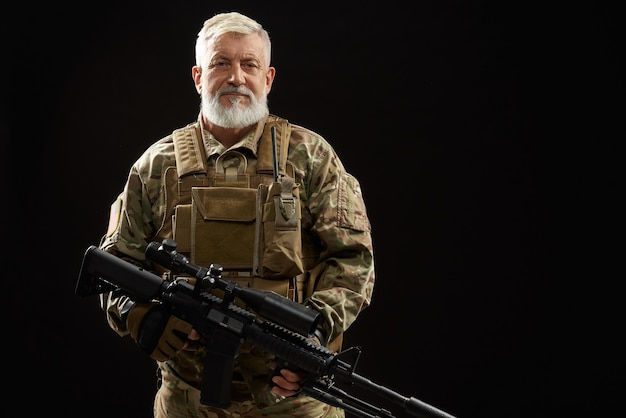gun: (77, 235, 453, 418)
